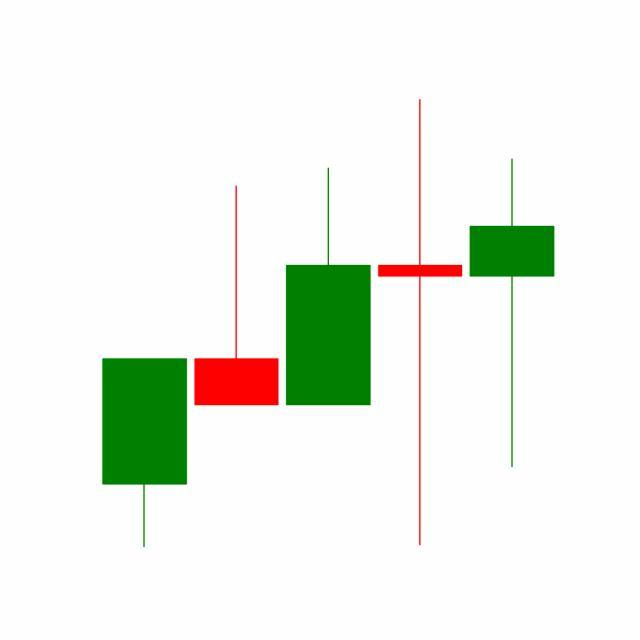Spinning Top: (466, 156, 559, 472)
